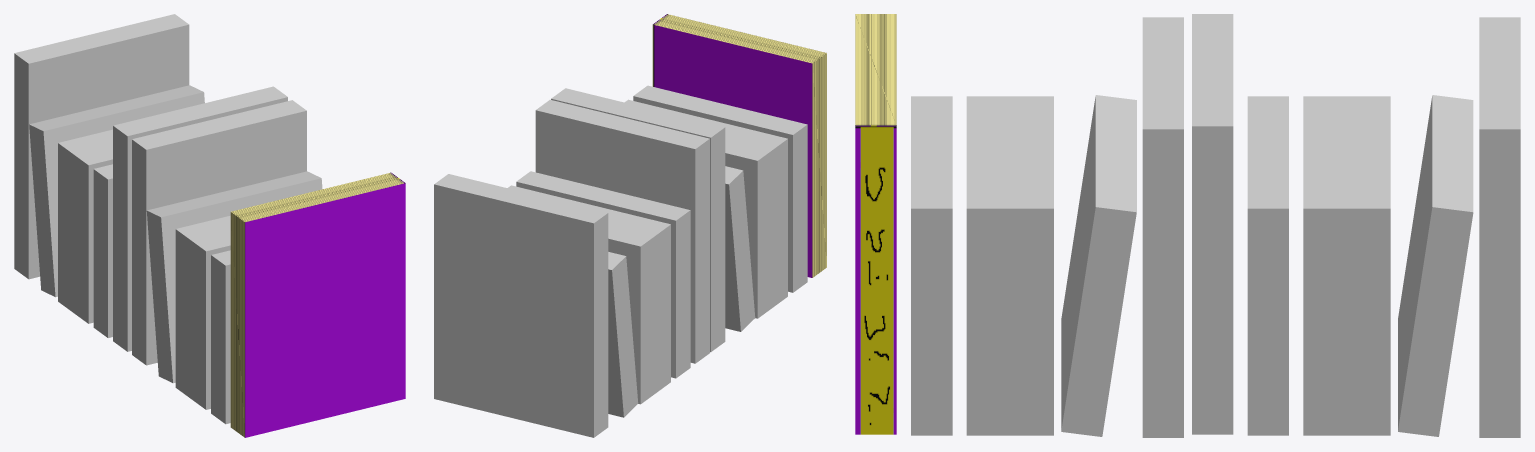
File: Livrosfbx.fbx
3 renders of one model, left to right at view 1: azimuth 30°, elevation 25°; view 2: azimuth 150°, elevation 25°; view 3: azimuth 270°, elevation 25°, orthographic. The views are drawn at different scales.
Visible parts, largest first — view 1: Livro, Livro 10, Livro 5, Livro 4, Livro 9, Livro 6, Livro 3, Livro 8, Livro 2, Livro 7; view 2: Livro 10, Livro, Livro 6, Livro 8, Livro 3, Livro 2, Livro 7, Livro 5, Livro 4, Livro 9; view 3: Livro 3, Livro 8, Livro 9, Livro 4, Livro, Livro 10, Livro 5, Livro 6, Livro 2, Livro 7.
Boxes of the visible parts, x1,y1,x2,y2 form: Livro: (230, 172, 405, 437); Livro 10: (14, 14, 189, 279); Livro 5: (132, 100, 306, 365); Livro 4: (146, 171, 322, 383); Livro 9: (29, 85, 204, 297); Livro 6: (113, 86, 287, 351); Livro 3: (175, 215, 230, 409); Livro 8: (58, 129, 112, 323); Livro 2: (211, 250, 230, 424); Livro 7: (93, 164, 112, 337); Livro 10: (434, 174, 608, 437); Livro: (652, 14, 826, 277); Livro 6: (535, 99, 709, 363); Livro 8: (507, 185, 670, 404); Livro 3: (624, 99, 787, 318); Livro 2: (633, 85, 807, 292); Livro 7: (516, 171, 690, 378); Livro 5: (551, 88, 725, 352); Livro 4: (725, 166, 755, 331); Livro 9: (608, 252, 638, 417); Livro 3: (966, 96, 1053, 435); Livro 8: (1303, 96, 1390, 435); Livro 9: (1398, 95, 1473, 436); Livro 4: (1061, 95, 1136, 436); Livro: (855, 14, 896, 434); Livro 10: (1479, 17, 1520, 437); Livro 5: (1142, 17, 1183, 437); Livro 6: (1192, 14, 1233, 434); Livro 2: (911, 96, 952, 435); Livro 7: (1247, 96, 1288, 435).
Bounding box in the file's own units: 134 × 172 × 333.
